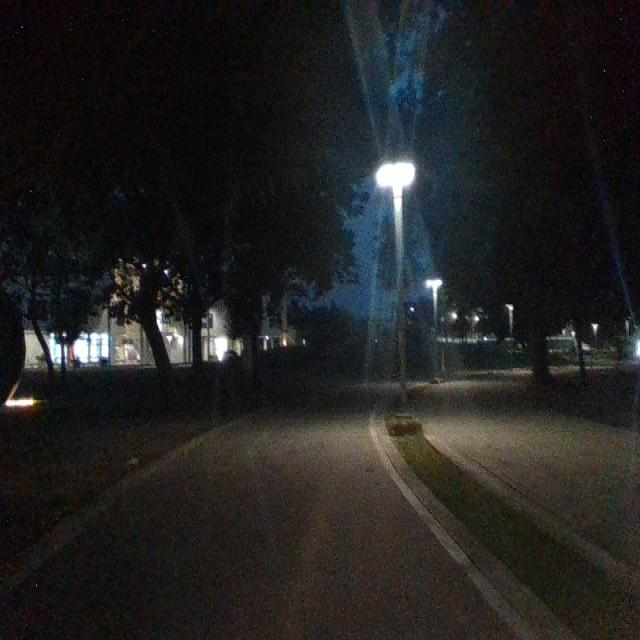lane: (1, 413, 528, 640)
